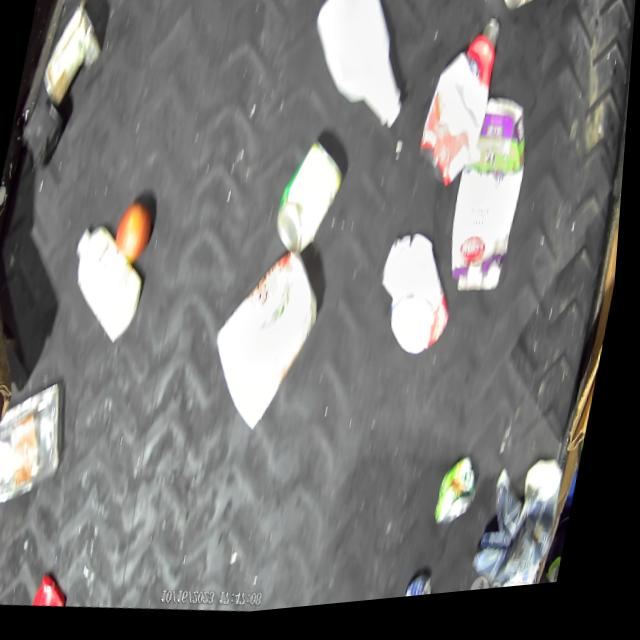can: (371, 235, 470, 371), (274, 139, 354, 265), (38, 2, 111, 115), (439, 461, 490, 540), (495, 0, 556, 27), (410, 577, 454, 606)
milk_jug: (296, 0, 429, 146), (63, 221, 158, 352)
non_white_jug: (443, 101, 542, 307), (415, 20, 506, 202)
